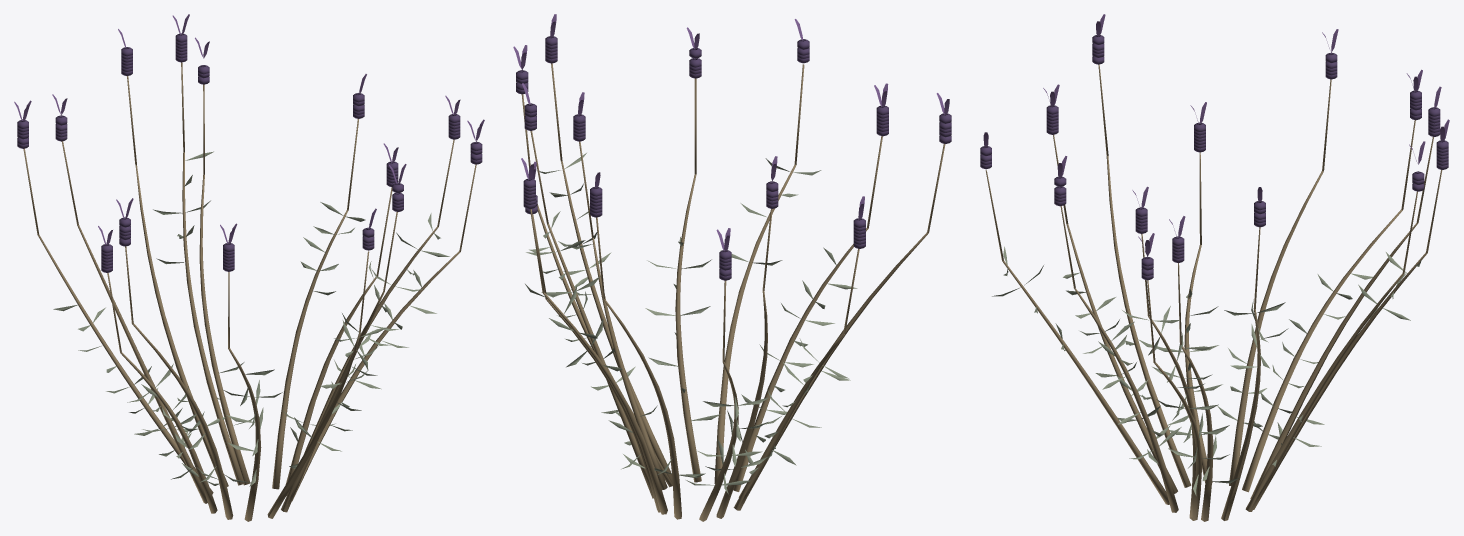
The model's file is Lavande_0_Niveau1.fbx.
The picture shows the model from 3 angles, left to right: view 1: azimuth 30°, elevation 25°; view 2: azimuth 150°, elevation 25°; view 3: azimuth 270°, elevation 25°; orthographic projection. The views are drawn at different scales.
Visible parts, largest first — view 1: Lavande_0_Niveau1; view 2: Lavande_0_Niveau1; view 3: Lavande_0_Niveau1.
Boxes of the visible parts, x1,y1,x2,y2 form: Lavande_0_Niveau1: (14, 14, 484, 521); Lavande_0_Niveau1: (513, 14, 951, 521); Lavande_0_Niveau1: (980, 14, 1449, 521).
Bounding box in the file's own units: 49.14 × 47.88 × 50.01.
